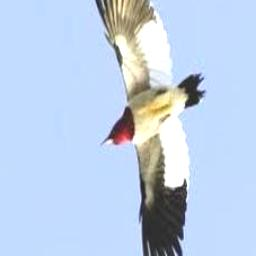Woodpecker: (91, 0, 206, 256)
